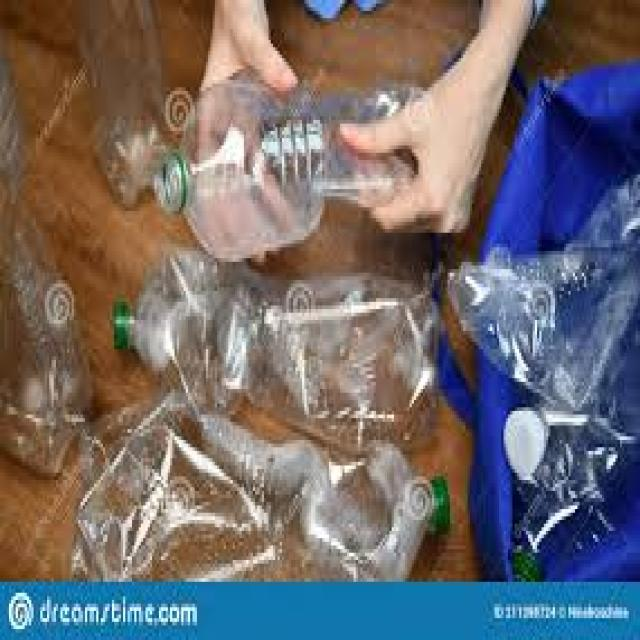plastic: (74, 399, 452, 585), (111, 249, 437, 447), (157, 73, 434, 261), (454, 192, 640, 404), (0, 33, 90, 469), (73, 0, 171, 207), (501, 403, 640, 542)
